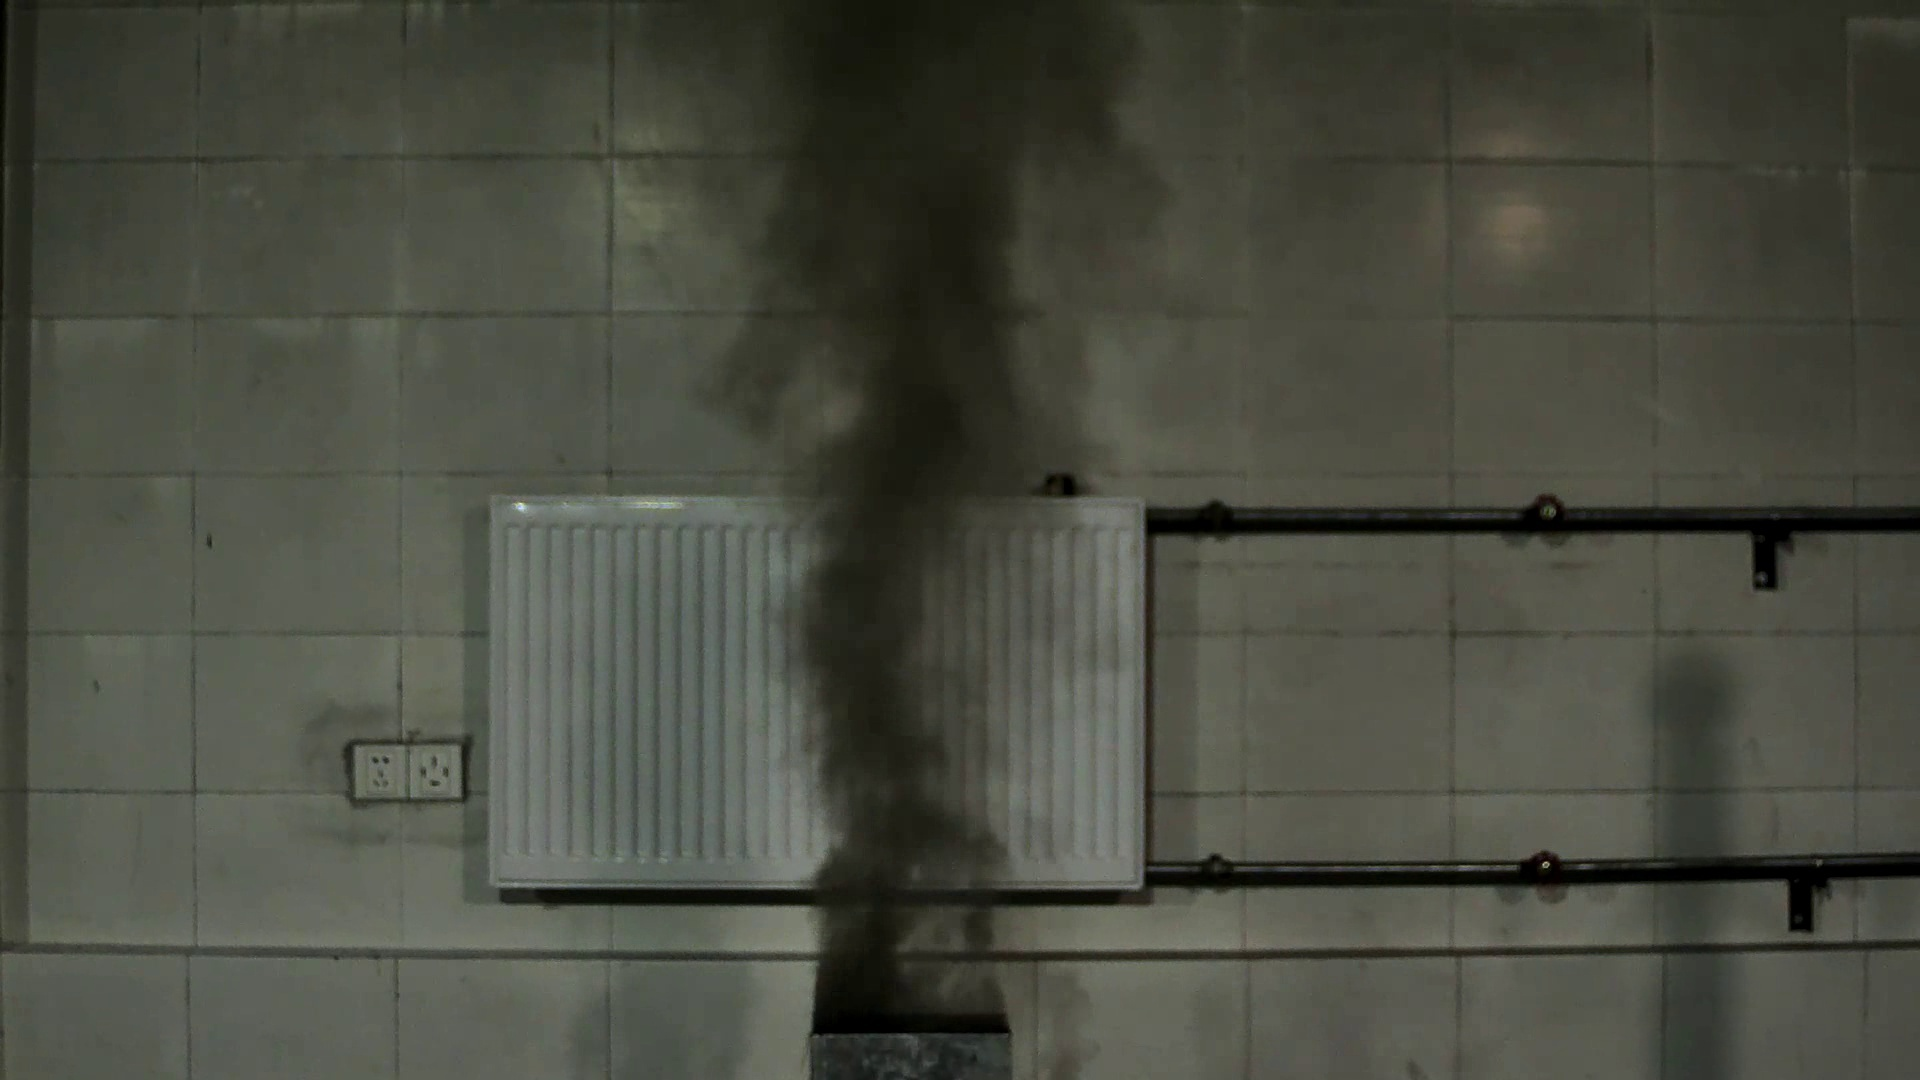smoke: (686, 59, 1079, 1026)
